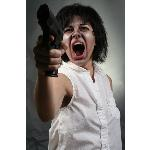Pistol: (35, 4, 63, 77)
